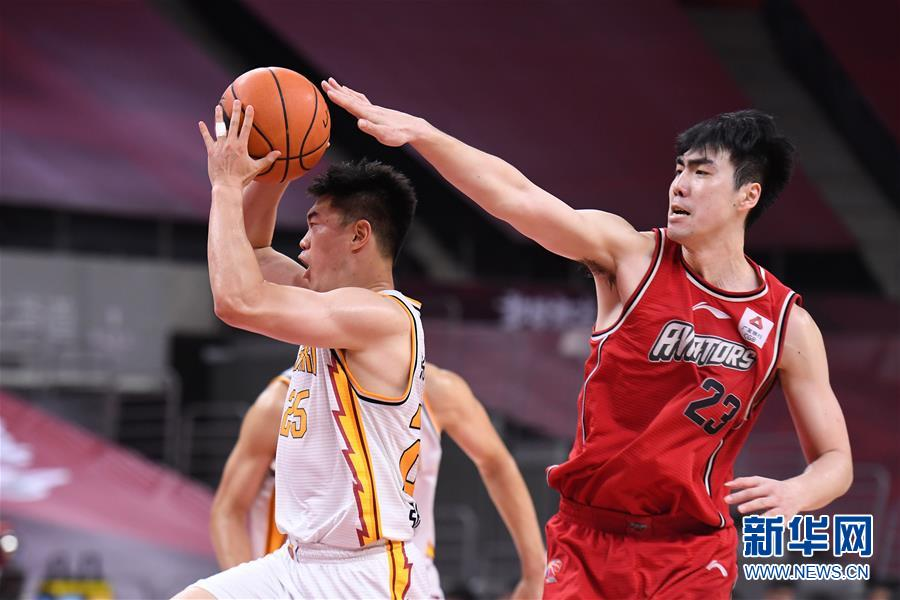ball: (216, 66, 332, 185)
